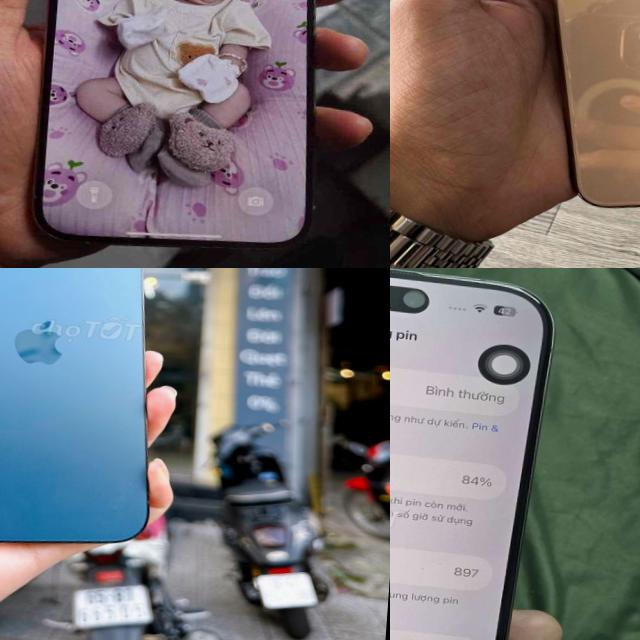gen_12_13: (0, 268, 182, 565)
gen_15: (0, 0, 340, 267), (390, 268, 530, 640)
gen_x_xs: (481, 0, 640, 230)
